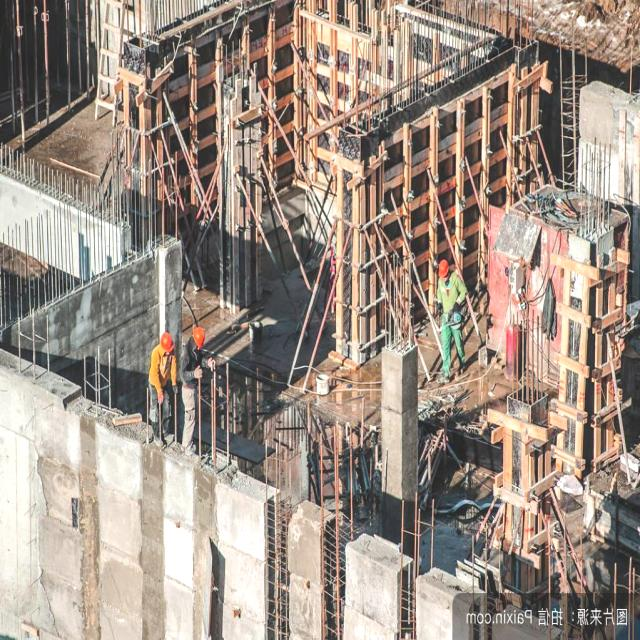head_helmet: (192, 327, 209, 347), (159, 332, 174, 349), (438, 260, 452, 276)
person: (182, 328, 212, 454), (438, 261, 462, 377), (150, 328, 173, 434)
shoes: (150, 418, 165, 448), (435, 363, 452, 387)
